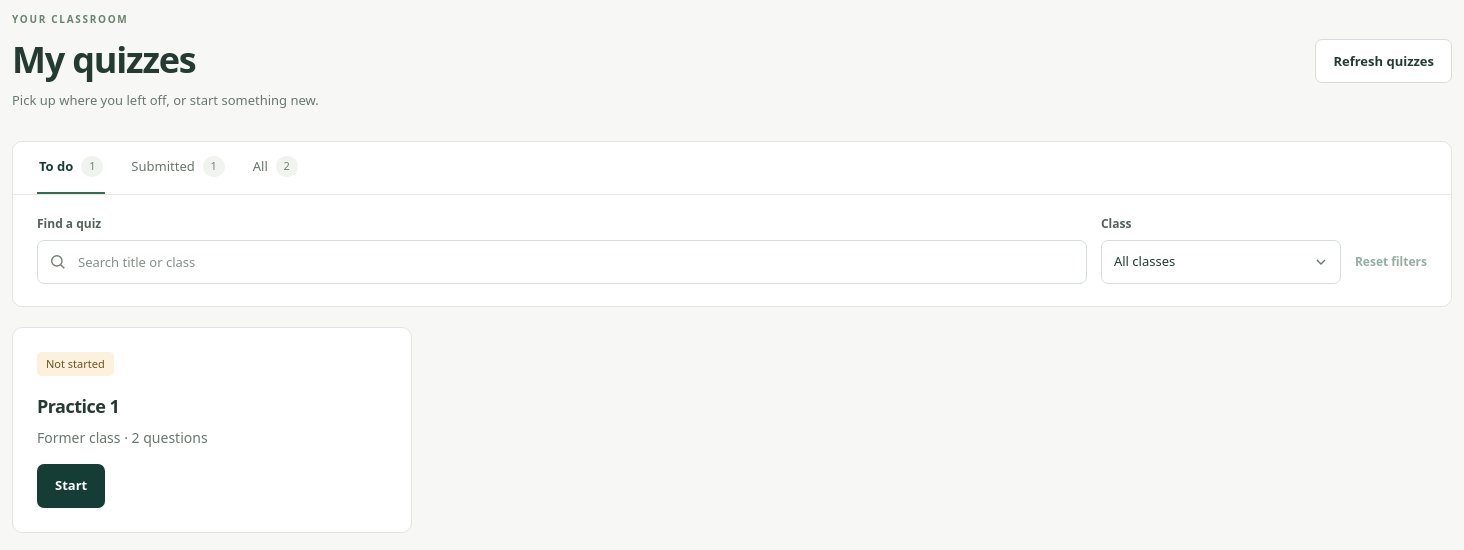
Test: student workspace › keeps submitted scores private to submitted cards and renders unavailable values clearly
Check: the link with aria-label "Start: Practice 1" is shown, box 37,464 -> 105,508
Click the tab "Submitted 1" at [178, 168], box 129,142 -> 227,194
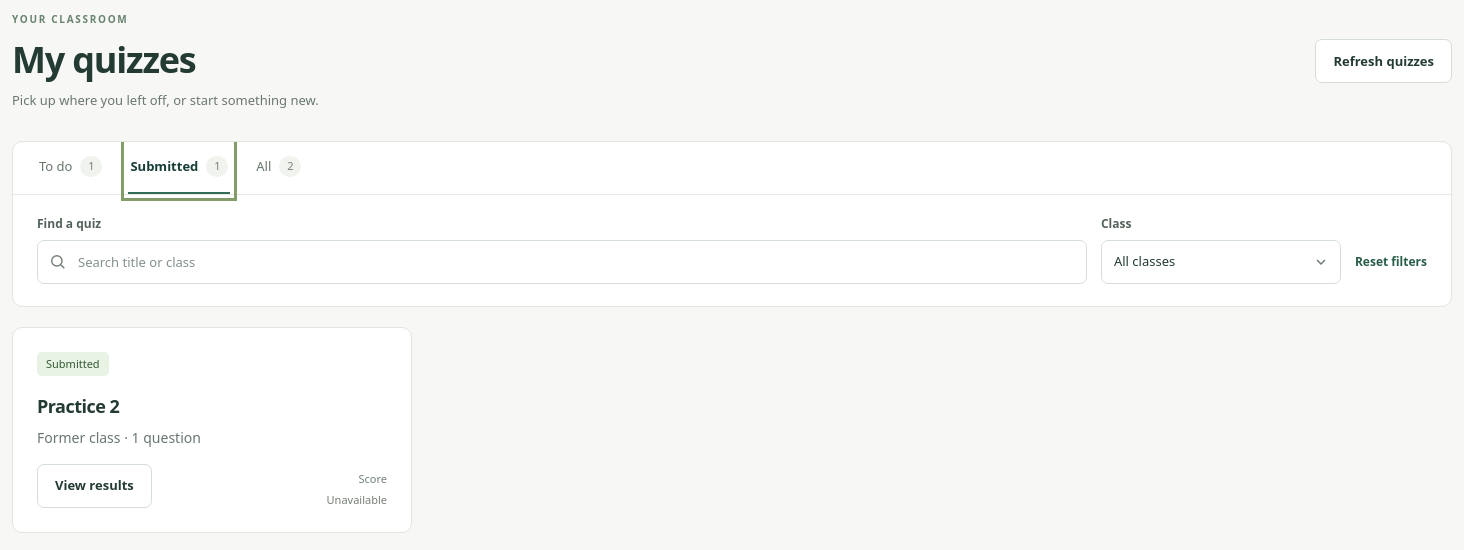
Check: the element labelled "Score Unavailable" is shown, box 327,471 -> 387,508
